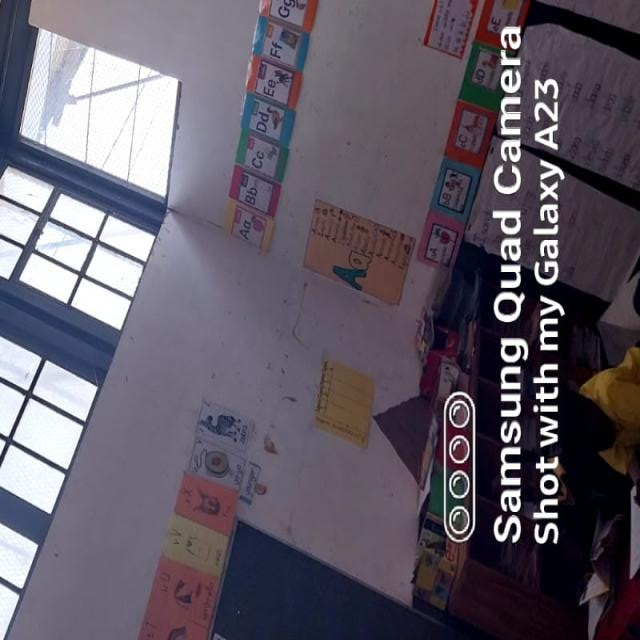fluorescent tube: (0, 0, 58, 67)
